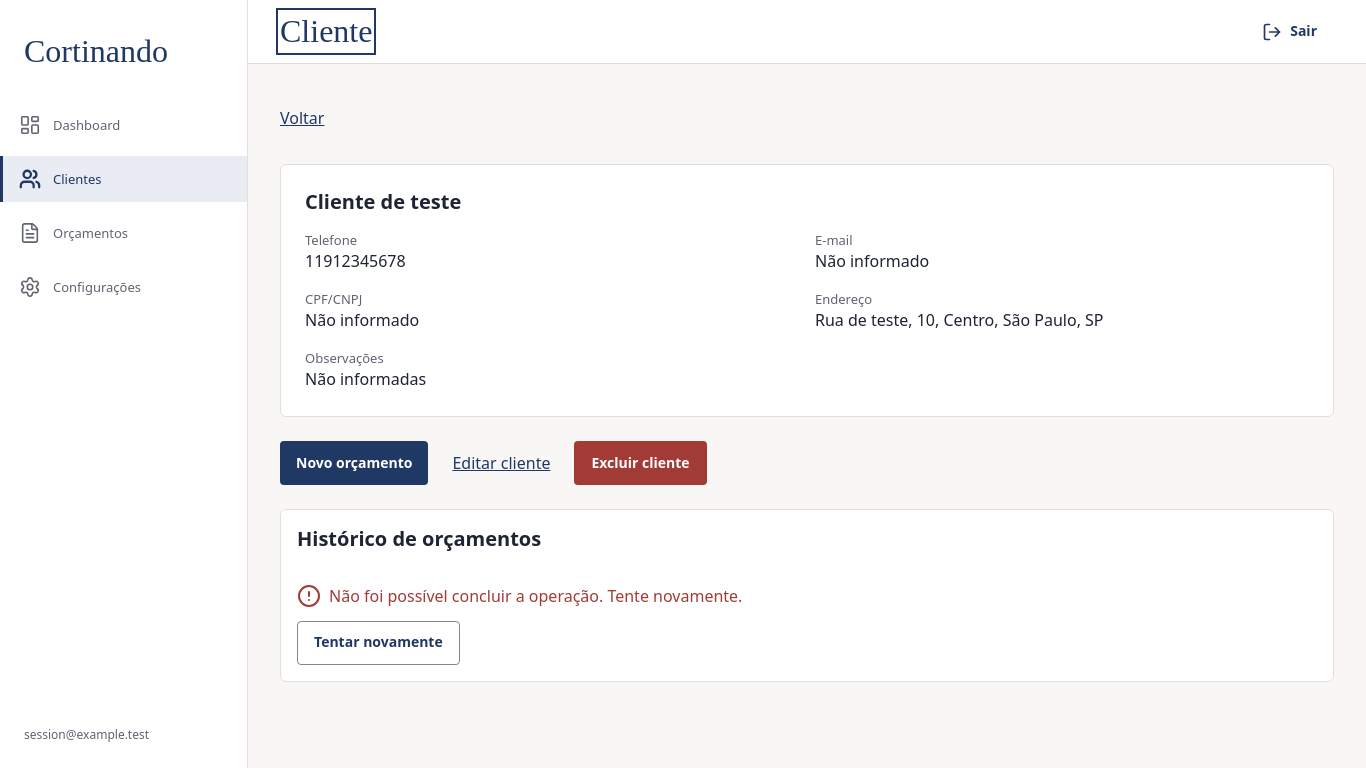
it: retries history independently without hiding the customer
Expected: the message "Não foi possível concluir a operação. Tente novamente." is shown, [297,584,742,609]
Expected: the heading "Cliente de teste" is shown, [305,188,461,215]
Click the button "Tentar novamente" at coordinates (378, 643), box [297,621,460,665]
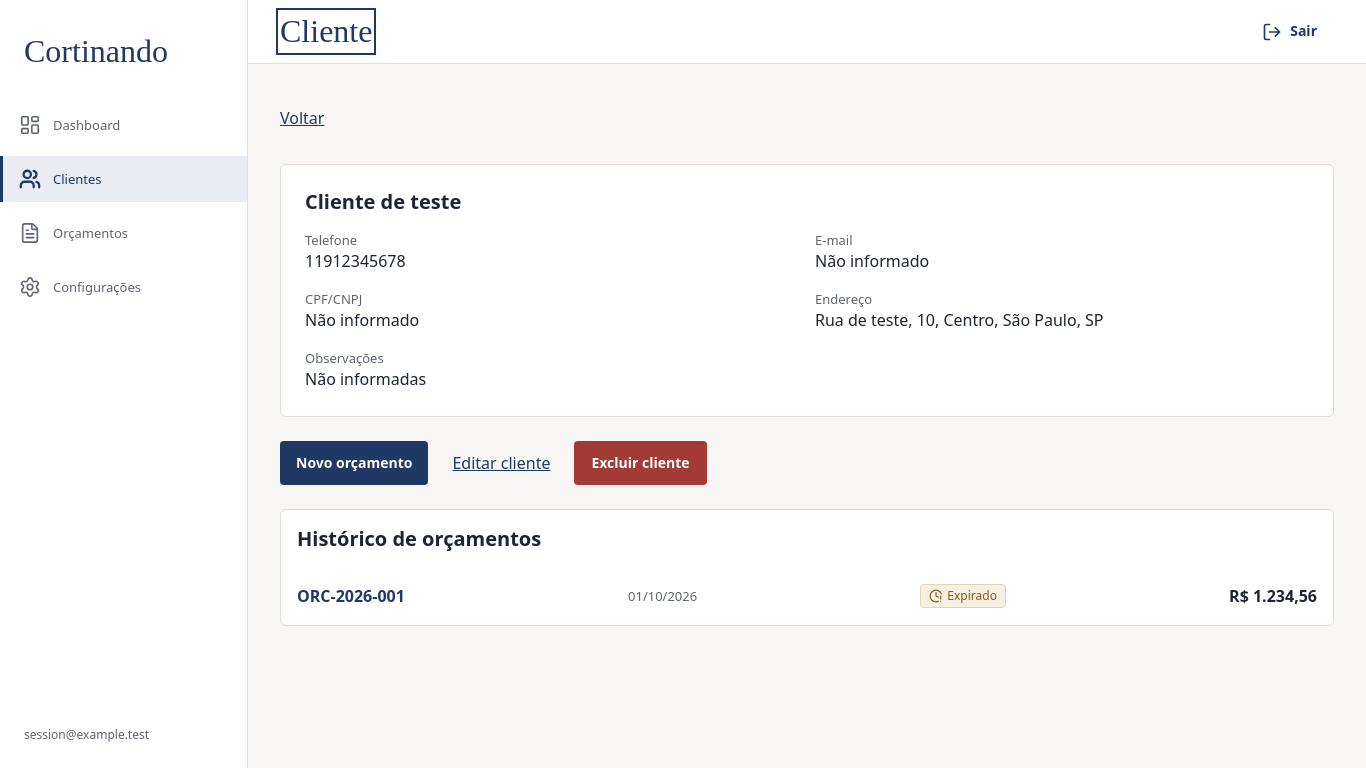
Result: the link "ORC-2026-001 01/10/2026 Expirado R$ 1.234,56" is shown at [297,584,1317,608]
